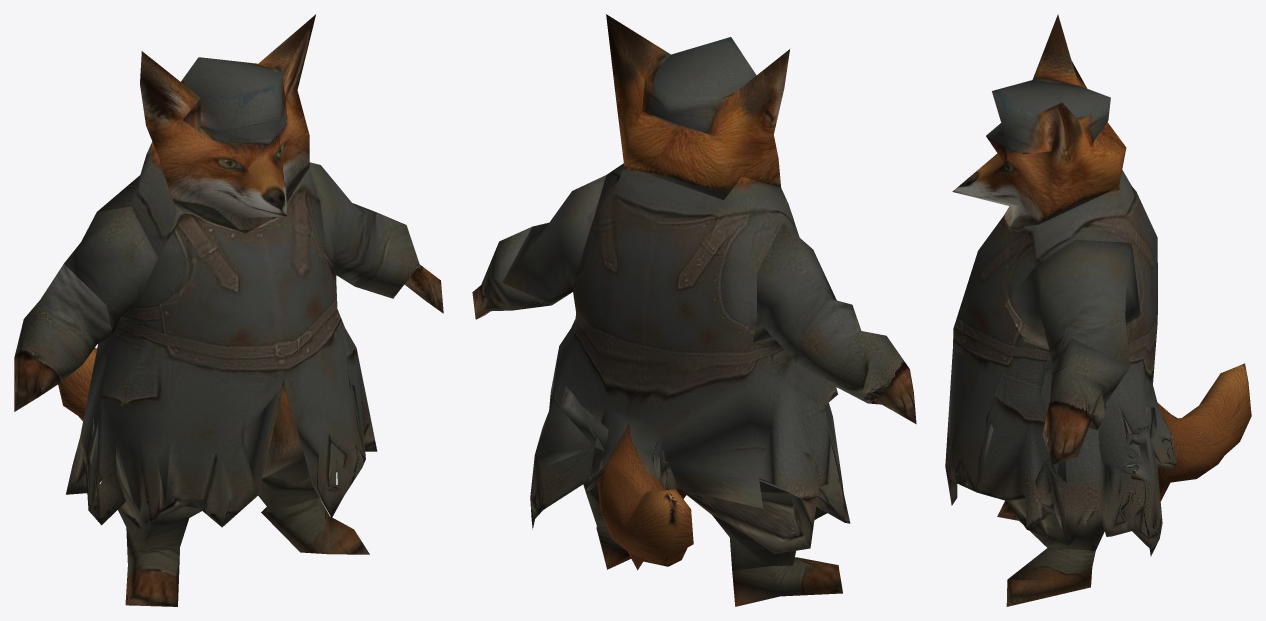
File: infantry_hp_gibs.glb
3 renders of one model, left to right at view 1: azimuth 30°, elevation 25°; view 2: azimuth 150°, elevation 25°; view 3: azimuth 270°, elevation 25°, orthographic. The views are drawn at different scales.
Parts seen in each view (by area): view 1: Body.001, Head.001, Forarm.R.001, Hat.001, Arm.R.001, Forarm.L.001, Arm.L.001, Leg.L.001, Leg.R.001, Upleg.R.001, Upleg.L.001; view 2: Body.001, Head.001, Forarm.R.001, Hat.001, Arm.R.001, Arm.L.001, Leg.R.001, Forarm.L.001, Upleg.R.001, Leg.L.001; view 3: Body.001, Head.001, Arm.L.001, Forarm.L.001, Hat.001, Leg.L.001, Upleg.L.001.
Part boxes in pixels (left/top/right/bottom): Body.001: left=58, top=151, right=377, bottom=529; Head.001: left=140, top=14, right=315, bottom=233; Forarm.R.001: left=14, top=264, right=112, bottom=411; Hat.001: left=181, top=57, right=287, bottom=144; Arm.R.001: left=64, top=206, right=157, bottom=333; Forarm.L.001: left=355, top=212, right=443, bottom=313; Arm.L.001: left=309, top=162, right=376, bottom=286; Leg.L.001: left=261, top=497, right=369, bottom=554; Leg.R.001: left=125, top=528, right=179, bottom=606; Upleg.R.001: left=118, top=506, right=201, bottom=554; Upleg.L.001: left=258, top=463, right=337, bottom=512; Body.001: left=530, top=163, right=850, bottom=570; Head.001: left=606, top=14, right=789, bottom=199; Forarm.R.001: left=797, top=298, right=916, bottom=424; Hat.001: left=642, top=37, right=756, bottom=135; Arm.R.001: left=753, top=223, right=836, bottom=362; Arm.L.001: left=502, top=175, right=606, bottom=305; Leg.R.001: left=732, top=557, right=842, bottom=606; Forarm.L.001: left=472, top=227, right=551, bottom=319; Upleg.R.001: left=712, top=515, right=815, bottom=570; Leg.L.001: left=596, top=526, right=631, bottom=569; Body.001: left=945, top=170, right=1251, bottom=556; Head.001: left=952, top=14, right=1126, bottom=228; Arm.L.001: left=1005, top=239, right=1140, bottom=366; Forarm.L.001: left=1042, top=338, right=1129, bottom=464; Hat.001: left=986, top=80, right=1110, bottom=154; Leg.L.001: left=1006, top=548, right=1095, bottom=606; Upleg.L.001: left=1008, top=503, right=1104, bottom=550.
Size of the model in its own units: 0.8191 by 0.9748 by 0.5393.
2 materials, 1 textured.
